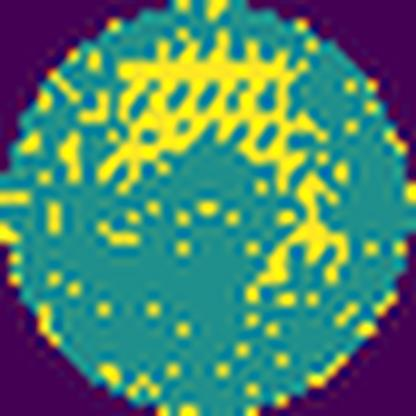Donut: (46, 30, 358, 322)
